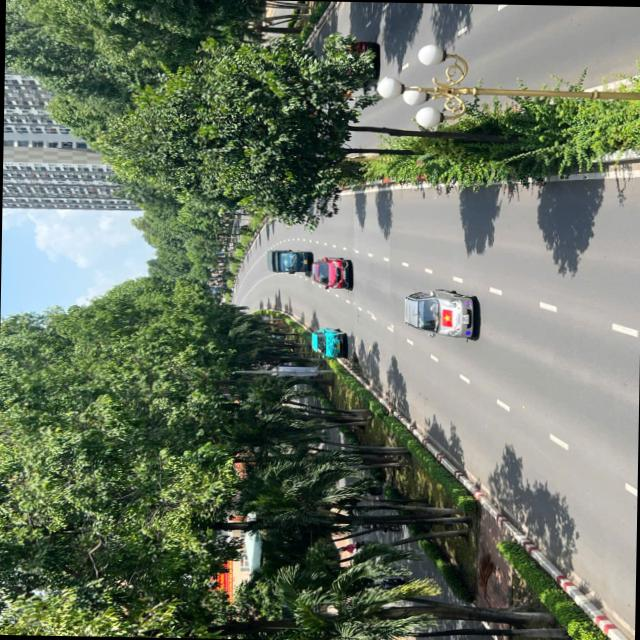ben: (264, 244, 314, 274)
car: (397, 286, 482, 341), (308, 252, 359, 293), (305, 324, 354, 361)
